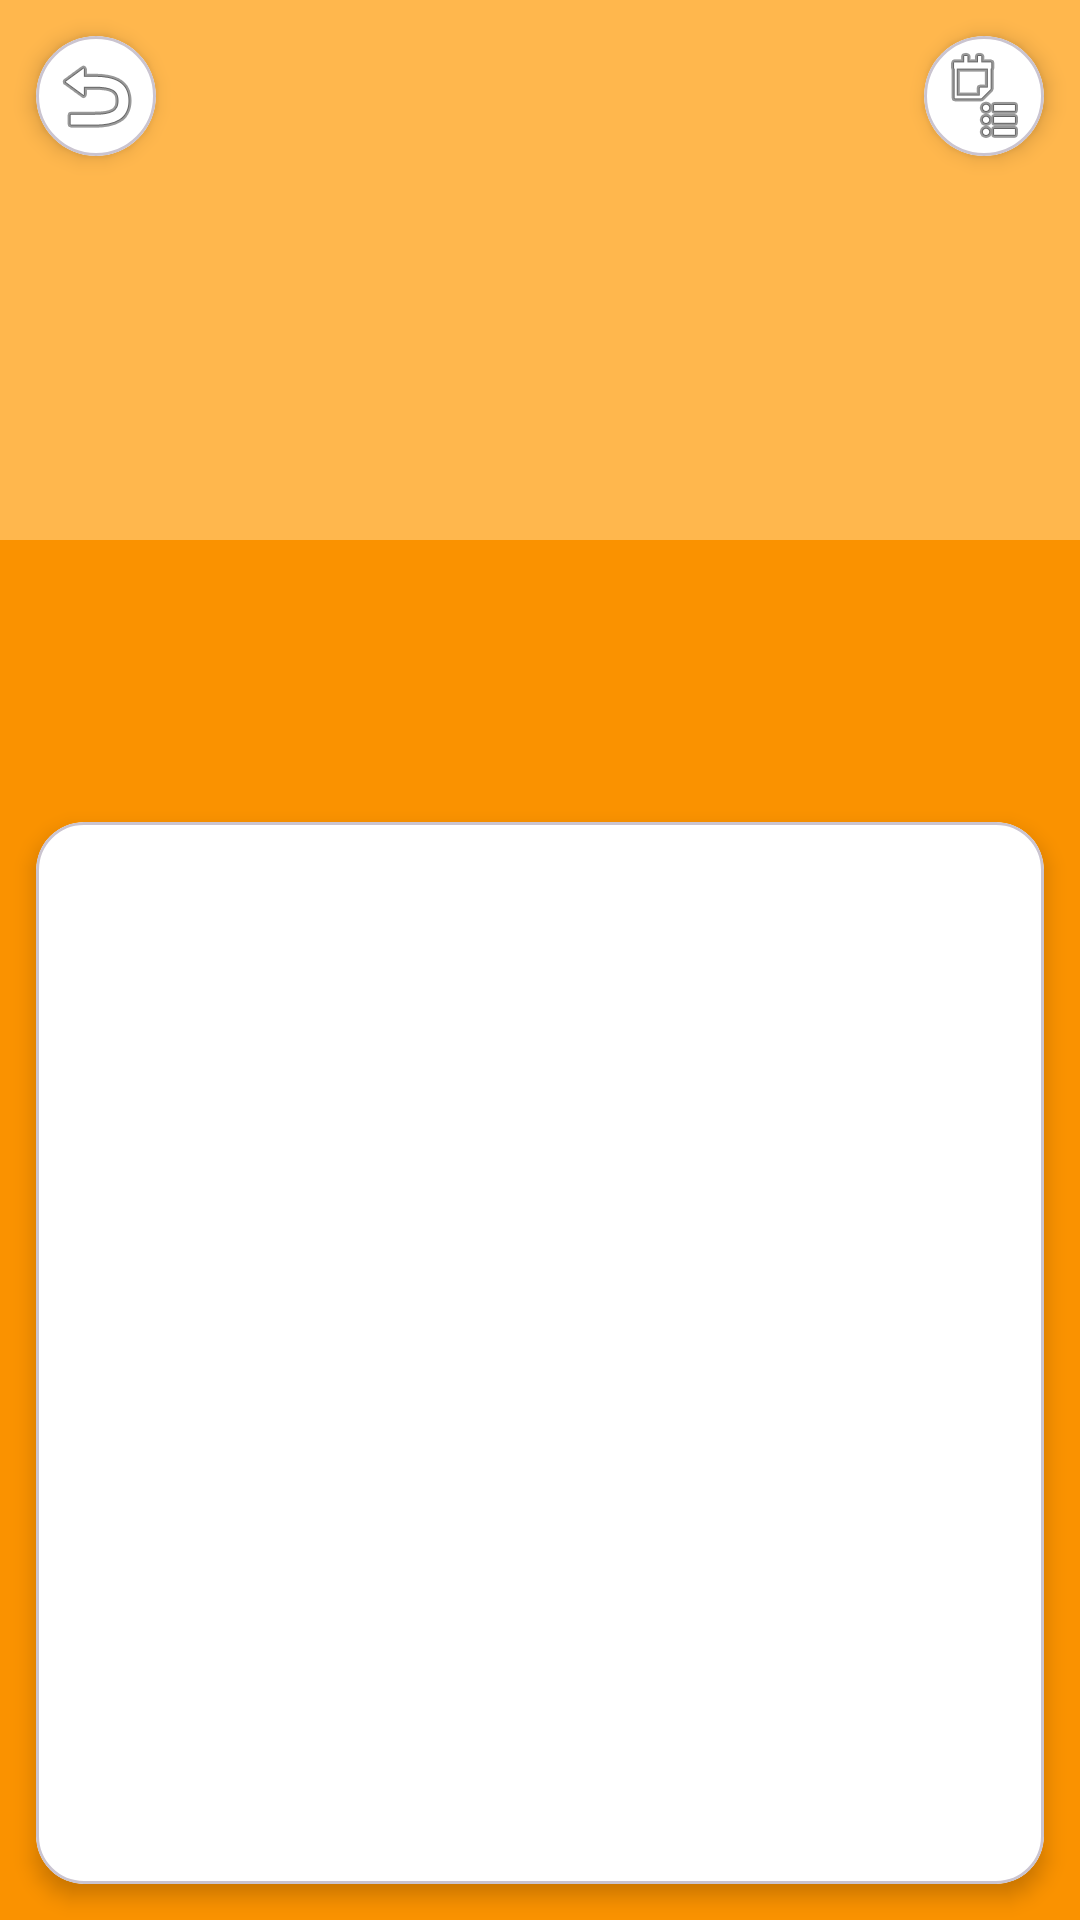

Screen size 1080w x 1920h. Icon name, then its box in pixels as (x1, y1, x2, y2):
Back: (36, 36, 156, 156)
